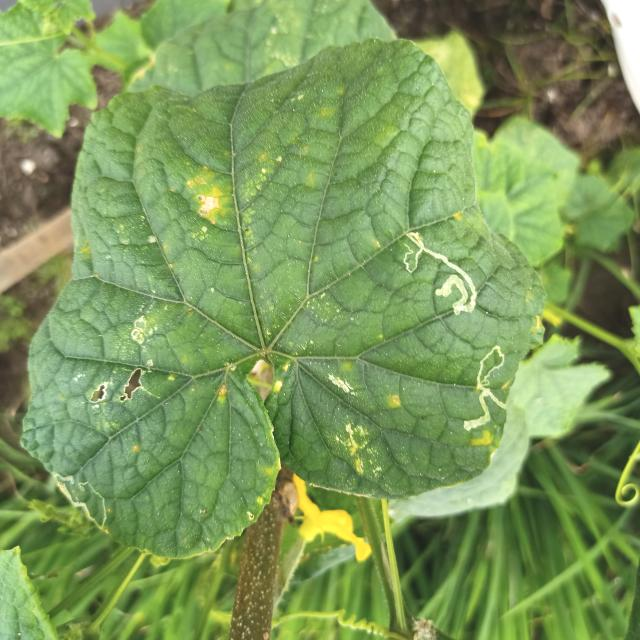disease_cucumber: (91, 307, 157, 409), (185, 170, 231, 233), (332, 421, 381, 476), (323, 370, 361, 398), (469, 426, 497, 451), (273, 360, 293, 393), (528, 313, 546, 336), (215, 379, 230, 401), (387, 390, 404, 409)
